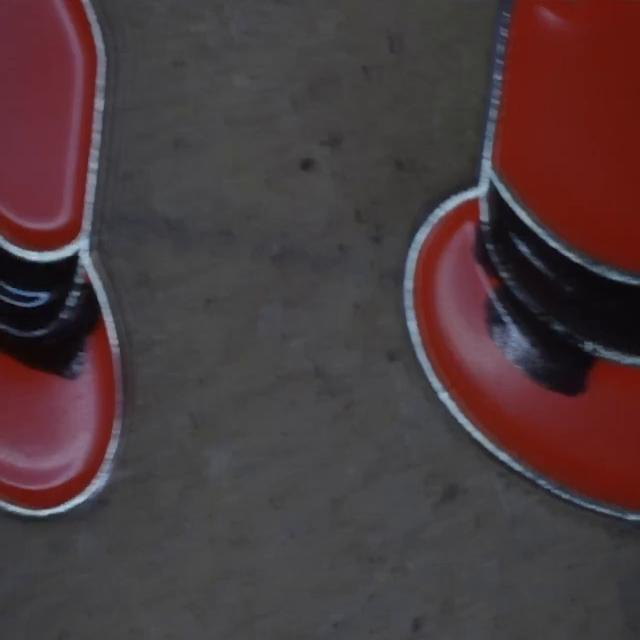Hatband: (481, 171, 640, 367), (0, 238, 79, 338)
Paint_Leak: (486, 280, 594, 396), (0, 267, 102, 378), (476, 227, 494, 278)
